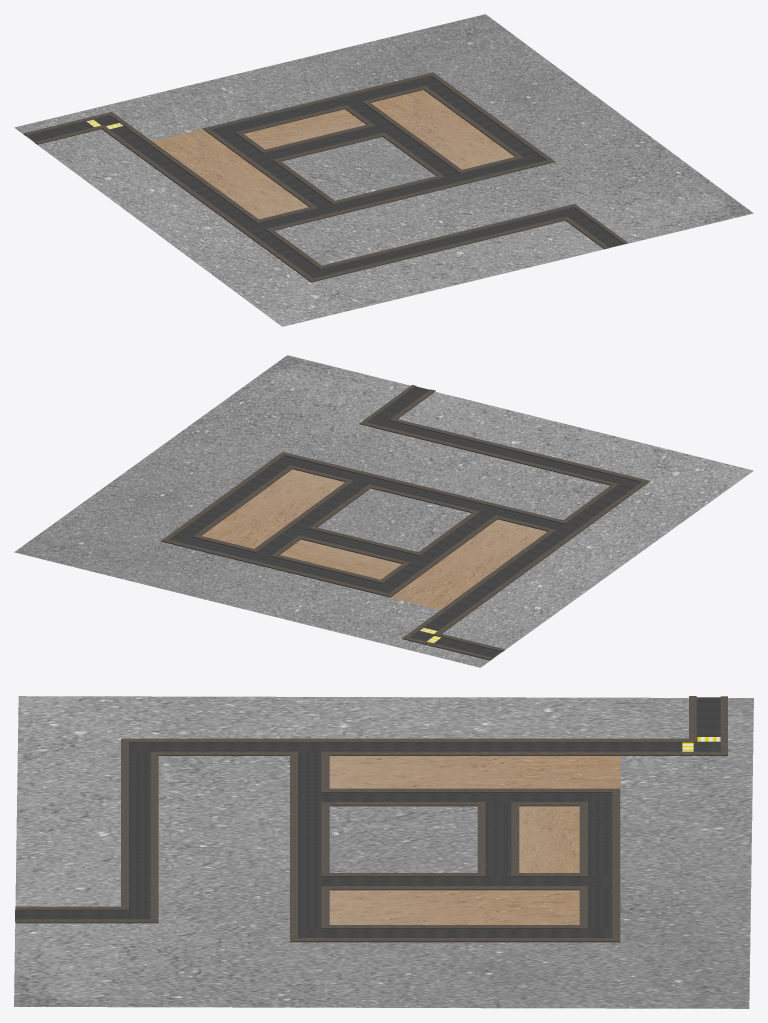
Rendered from freeCity.glb.
3 views of the same model, one above another, from view 1: azimuth 30°, elevation 25°; view 2: azimuth 150°, elevation 25°; view 3: azimuth 270°, elevation 25° (orthographic). The views are drawn at different scales.
Parts seen in each view (by area): view 1: MeshInstance3D_90, Plane 2_86, Plane_85, Plane 56_87; view 2: MeshInstance3D_90, Plane 2_86, Plane_85, Plane 56_87; view 3: MeshInstance3D_90, Plane 2_86, Plane_85, Plane 56_87, Plane 40_340, Plane 8 1_308, Plane 3_305, Plane 1 10_306, Plane 41_341, Plane 1_3, Plane 39_339, Plane 8_307 (+33 smaller).
Boxes of the visible parts, x1,y1,x2,y2 form: MeshInstance3D_90: (14, 14, 753, 326); Plane 2_86: (152, 129, 308, 219); Plane_85: (371, 90, 514, 169); Plane 56_87: (244, 109, 365, 149); MeshInstance3D_90: (14, 355, 753, 667); Plane 2_86: (388, 519, 547, 609); Plane_85: (202, 469, 344, 548); Plane 56_87: (280, 539, 401, 579); MeshInstance3D_90: (14, 696, 753, 1008); Plane 2_86: (329, 756, 620, 791); Plane_85: (329, 890, 579, 924); Plane 56_87: (519, 806, 579, 872); Plane 40_340: (485, 850, 511, 875); Plane 8 1_308: (288, 742, 352, 752); Plane 3_305: (544, 742, 609, 751); Plane 1 10_306: (416, 742, 480, 751); Plane 41_341: (224, 742, 288, 751); Plane 1_3: (480, 742, 544, 751); Plane 39_339: (485, 826, 511, 849); Plane 8_307: (351, 742, 415, 751).
Size of the model in its own units: 509 by 1.24 by 509.
6 materials, 6 textured.
